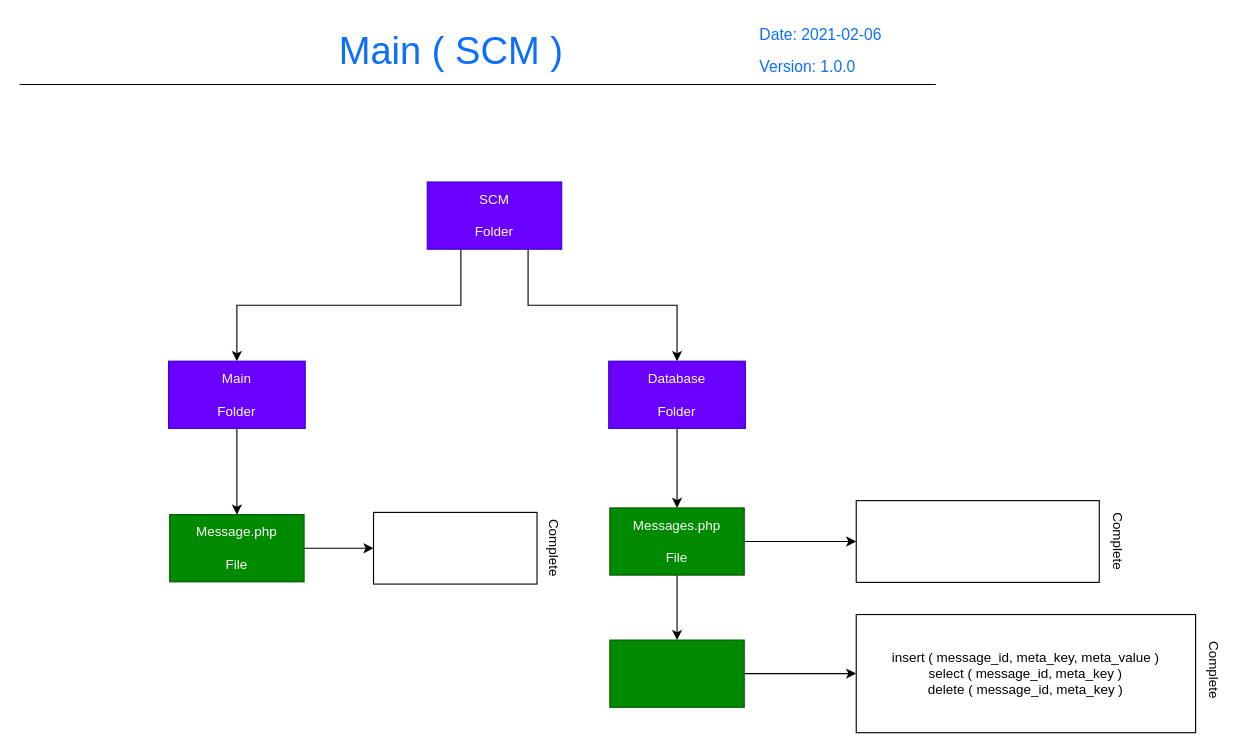
The diagram is 1244 pixels wide and 753 high, and some of its shapes have lost their labels. The shapes that lost their labels are listed below. From the top down, each one's centre as x and y in pixels, then its label:
At [454,547]: "delete( message_id )".
At [977,541]: "last_id() update( id, columnName, value ) select( id, columnName )".
At [676,673]: "Messagemeta.php File".
